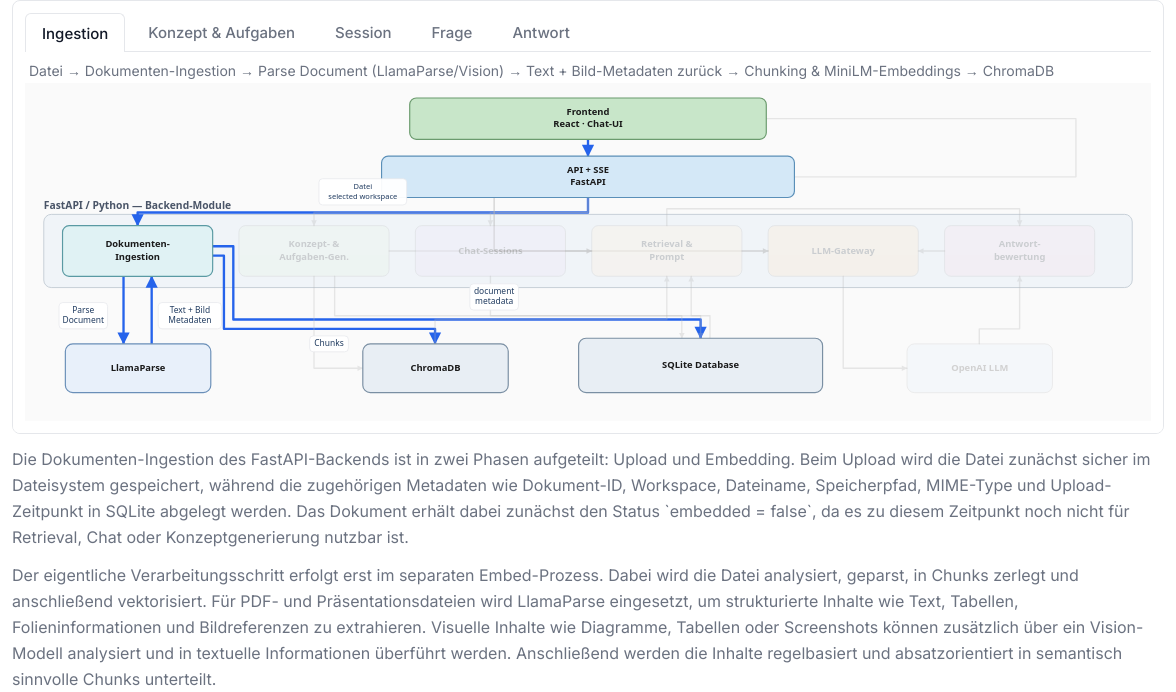
Scenario: GenAI4PCPipelineSection › updates detail text when diagram phase tab changes
Check: the text "Die Dokumenten-Ingestion des FastAPI-Backends ist in zwei Phasen aufgeteilt: Upload und Embedding. Beim Upload wird die " is shown, box [12,449,1150,547]
Click the tab "Konzept & Aufgaben" at [222, 33], box [131,13,312,52]
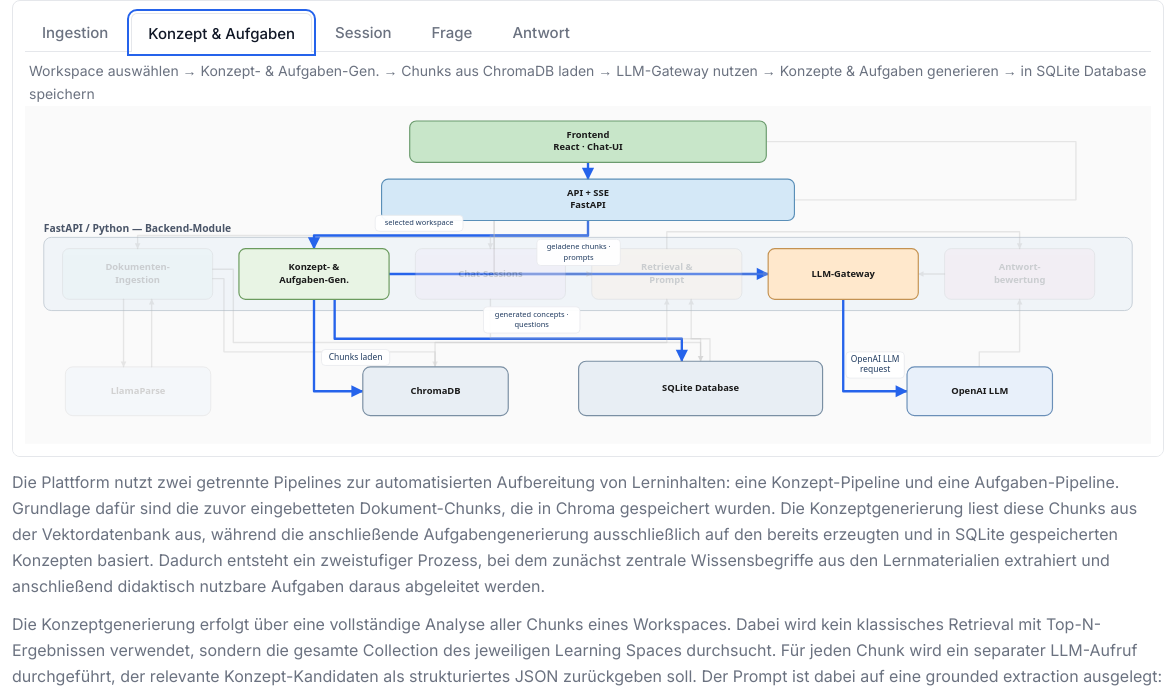
Check: the text "Die Plattform nutzt zwei getrennte Pipelines zur automatisierten Aufbereitung von Lerninhalten: eine Konzept-Pipeline un" is shown, box [12,472,1137,596]
Check: the text "Upload und Embedding" is gone
